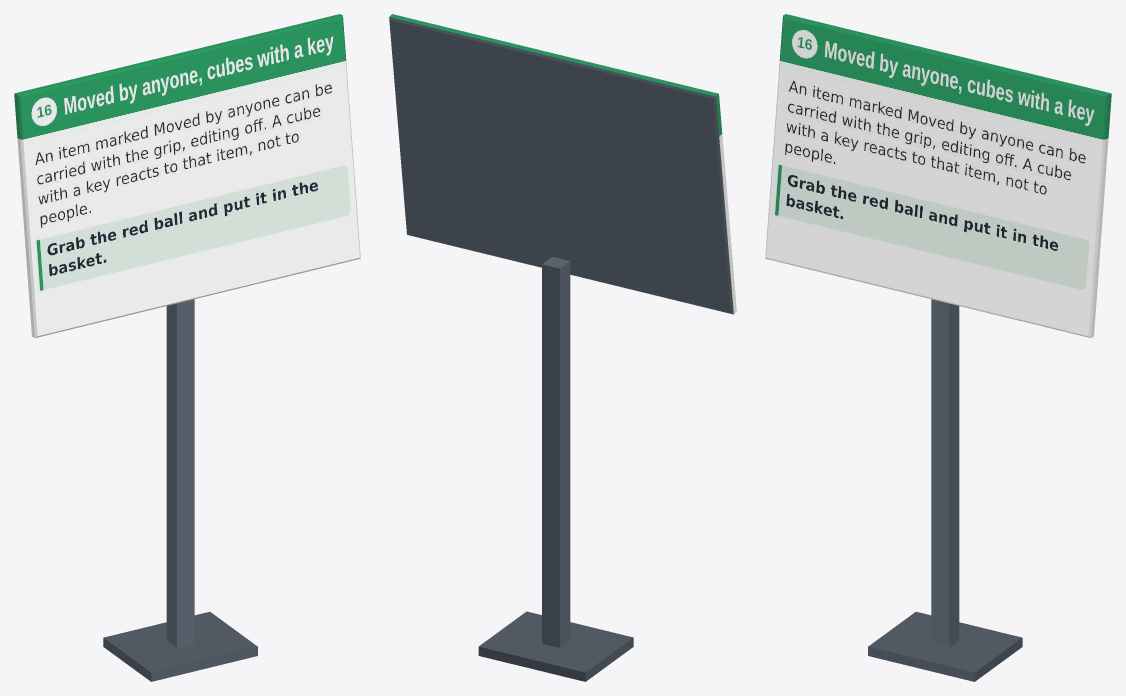
Rendered from 16-moved-by-anyone-cubes-with-a.glb.
3 renders of one model, left to right at view 1: azimuth 30°, elevation 25°; view 2: azimuth 150°, elevation 25°; view 3: azimuth 330°, elevation 25°, orthographic.
Parts seen in each view (by area): view 1: board; view 2: board; view 3: board.
Boxes of the visible parts, left/top/right/bottom form: board: left=14, top=14, right=360, bottom=681; board: left=389, top=14, right=736, bottom=681; board: left=765, top=14, right=1111, bottom=681.
Size of the model in its own units: 1.1 by 1.92 by 0.28.
1 material, 1 textured.
